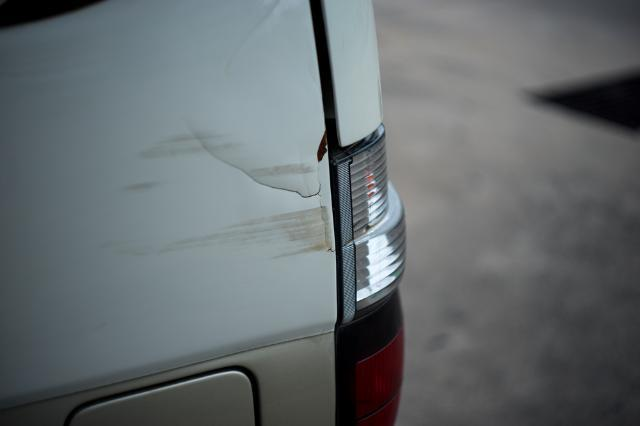crack: (211, 153, 322, 200)
scratch: (99, 130, 335, 266), (248, 160, 315, 176)
